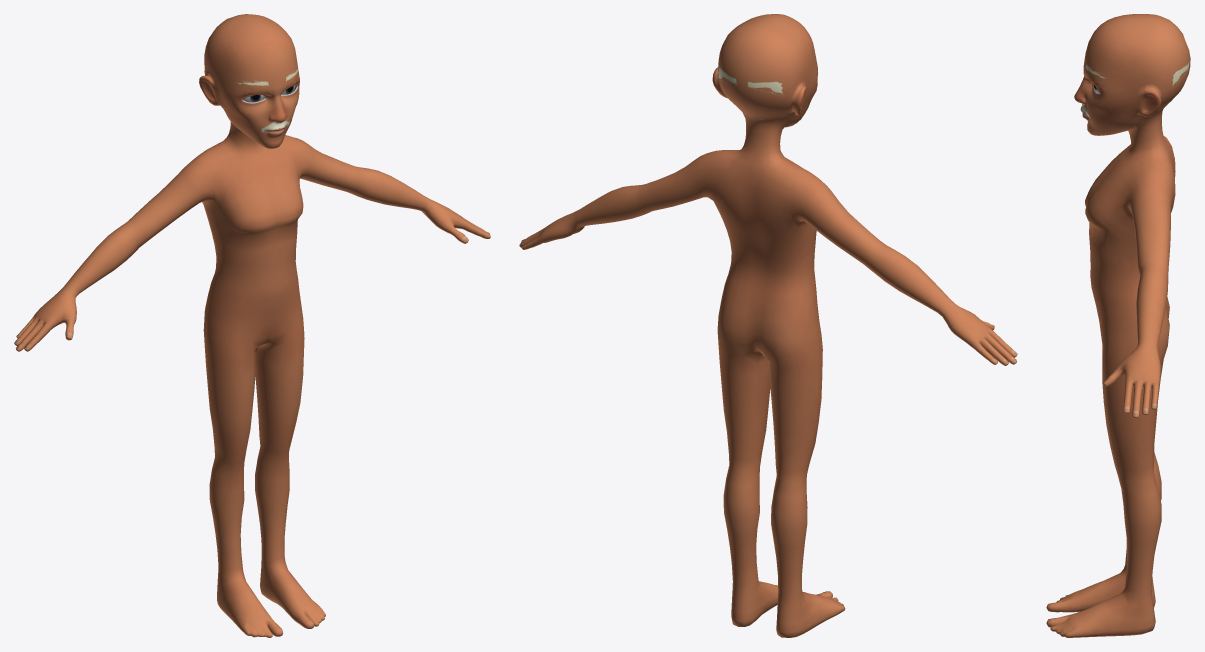
File: frame_0003.glb
3 renders of one model, left to right at view 1: azimuth 30°, elevation 25°; view 2: azimuth 150°, elevation 25°; view 3: azimuth 270°, elevation 25°, orthographic. The views are drawn at different scales.
Parts seen in each view (by area): view 1: frame_0003_head_geo; view 2: frame_0003_head_geo; view 3: frame_0003_head_geo.
Boxes of the visible parts, x1,y1,x2,y2 form: frame_0003_head_geo: (14, 14, 490, 637); frame_0003_head_geo: (519, 14, 1017, 637); frame_0003_head_geo: (1046, 14, 1190, 637).
Size of the model in its own units: 1.28 by 1.5 by 0.3253.
4 materials, 2 textured.
